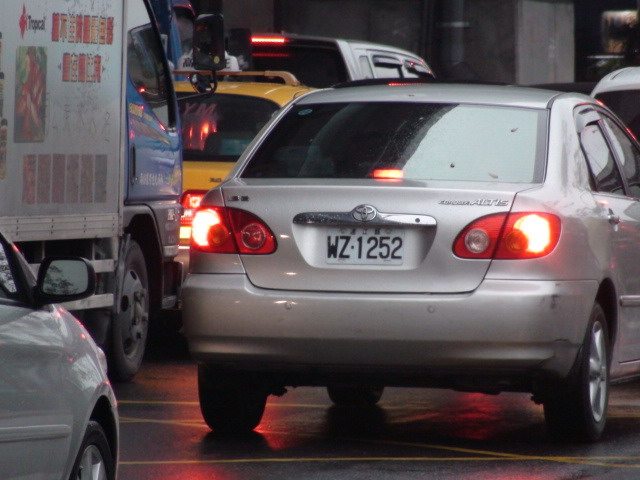plate: (322, 225, 406, 269)
